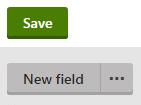button: (6, 61, 134, 96), (6, 4, 72, 40)
